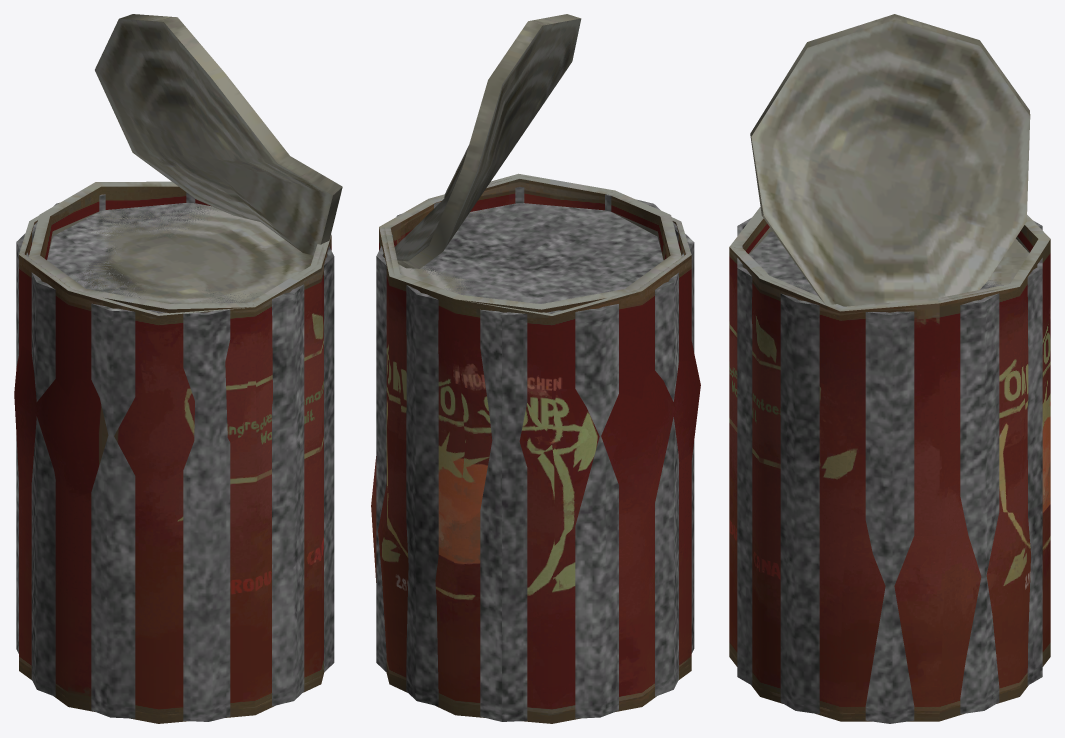
File: GEAR_TomatoSoupCan.glb
The picture shows the model from 3 angles, left to right: view 1: azimuth 30°, elevation 25°; view 2: azimuth 150°, elevation 25°; view 3: azimuth 270°, elevation 25°; orthographic projection.
Parts seen in each view (by area): view 1: CannedFoodMesh, CannedFoodMesh_Old, OBJ_CannedBeansUsed; view 2: CannedFoodMesh_Old, OBJ_CannedBeansUsed, CannedFoodMesh; view 3: OBJ_CannedBeansUsed, CannedFoodMesh_Old, CannedFoodMesh.
Boxes of the visible parts, left/top/right/bottom form: CannedFoodMesh: left=19, top=181, right=331, bottom=723; CannedFoodMesh_Old: left=16, top=192, right=334, bottom=721; OBJ_CannedBeansUsed: left=14, top=14, right=342, bottom=714; CannedFoodMesh_Old: left=376, top=187, right=694, bottom=721; OBJ_CannedBeansUsed: left=371, top=14, right=700, bottom=714; CannedFoodMesh: left=379, top=174, right=691, bottom=723; OBJ_CannedBeansUsed: left=729, top=14, right=1050, bottom=721; CannedFoodMesh_Old: left=737, top=218, right=1042, bottom=723; CannedFoodMesh: left=729, top=207, right=1050, bottom=705.
Bounding box in the file's own units: 0.1105 × 0.24 × 0.1093.
4 materials, 4 textured.
